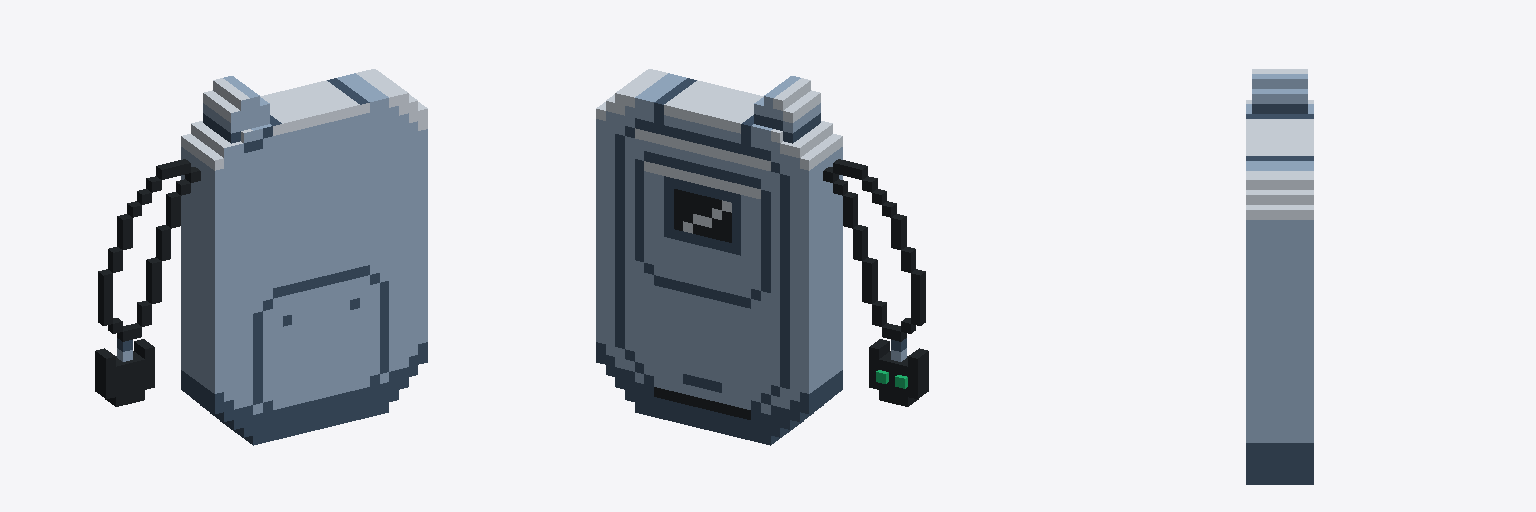
The model's file is Cellphone.obj.
3 renders of one model, left to right at view 1: azimuth 30°, elevation 25°; view 2: azimuth 150°, elevation 25°; view 3: azimuth 270°, elevation 25°, orthographic.
Bounding box in the file's own units: 32 × 34 × 6.